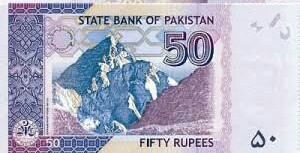50 rupee: (1, 3, 297, 151)
